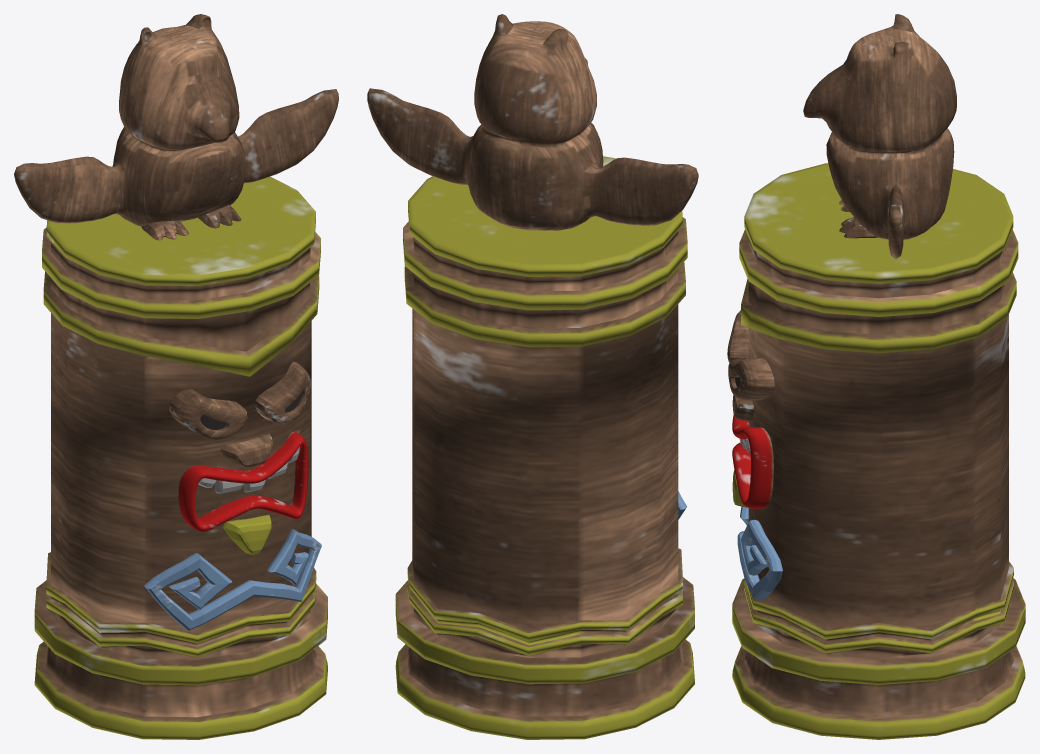
The model's file is Totem1.glb.
3 renders of one model, left to right at view 1: azimuth 30°, elevation 25°; view 2: azimuth 150°, elevation 25°; view 3: azimuth 270°, elevation 25°, orthographic. The views are drawn at different scales.
Visible parts, largest first — view 1: Totem 1; view 2: Totem 1; view 3: Totem 1.
Boxes of the visible parts, left/top/right/bottom form: Totem 1: left=14, top=14, right=338, bottom=739; Totem 1: left=367, top=14, right=698, bottom=739; Totem 1: left=727, top=14, right=1025, bottom=739.
Bounding box in the file's own units: 6.63 × 12.65 × 5.25.
Materials: 1 (1 with a texture image).
